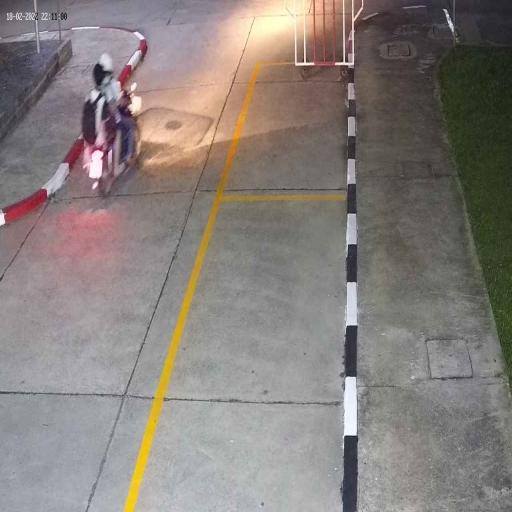motorcycle: (86, 80, 143, 202)
